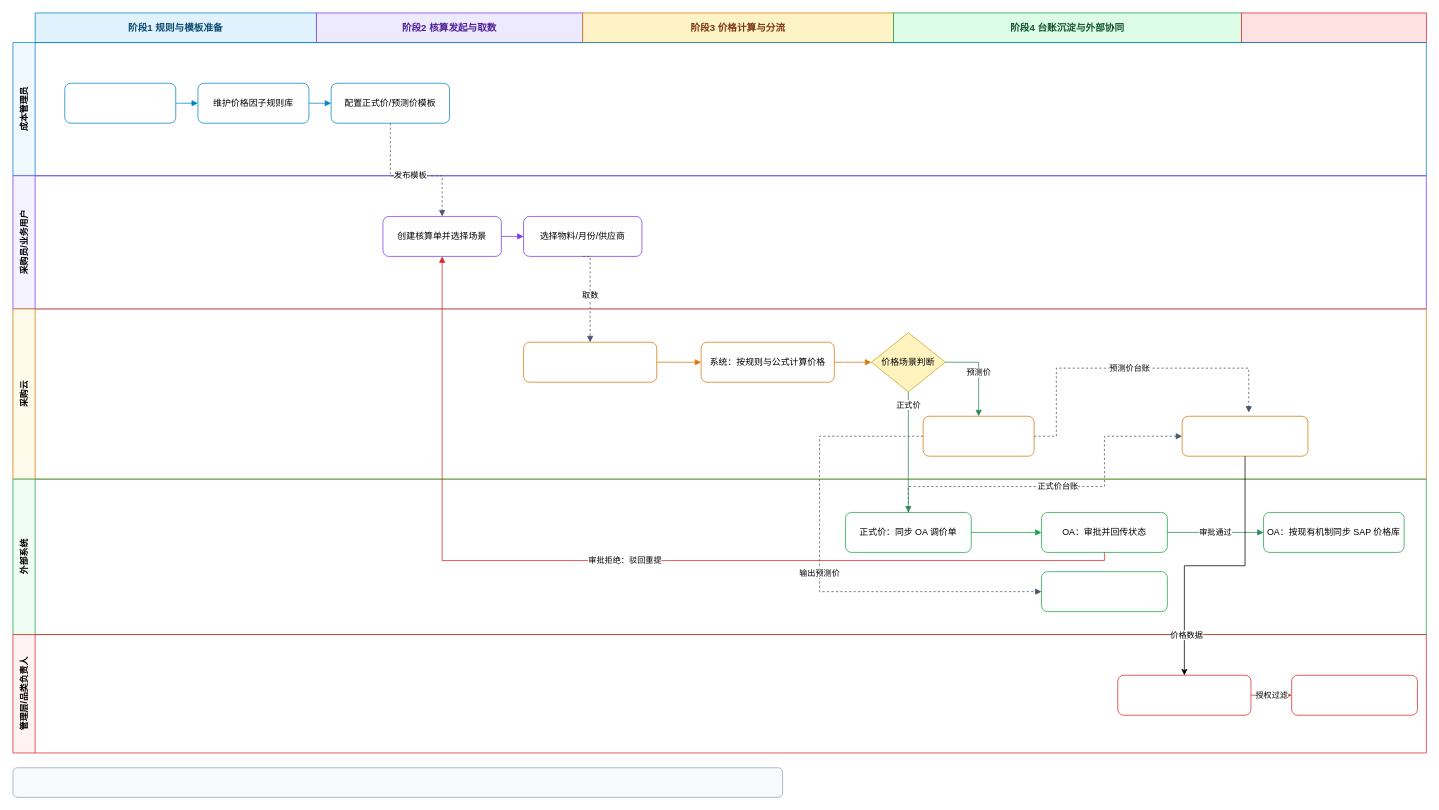
Some shapes in this 1439 by 810 pixel diagram are drawn without their labels. Each missing label, with the centre of its shape:
"同步订单测算平台" goes at pixel 1104 591.
"图例：蓝色=规则准备；紫色=业务发起；橙色=采购云自动处理；绿色=外部系统协同；红色=分析复盘/异常回退；虚线=系统间数据流" goes at pixel 397 782.
"按品类权限过滤数据" goes at pixel 1354 695.
"查看走势/预实/目标绩效" goes at pixel 1184 695.
"沉淀统一价格台账" goes at pixel 1244 436.
"系统：获取 SAP 物料主数据与 PLM 属性" goes at pixel 590 362.
"维护属性字典与标准值" goes at pixel 120 103.
"阶段5 分析复盘与权限管控" goes at pixel 1333 27.
"预测价：生成预测价台账" goes at pixel 978 436.
